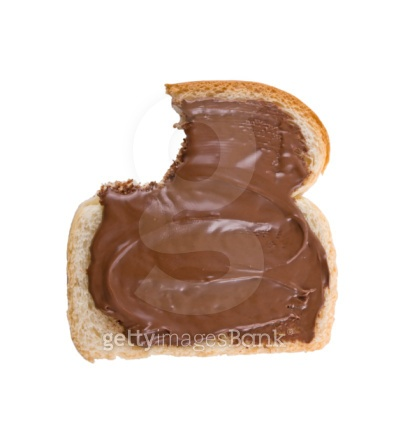slice of bread: (57, 80, 345, 358)
